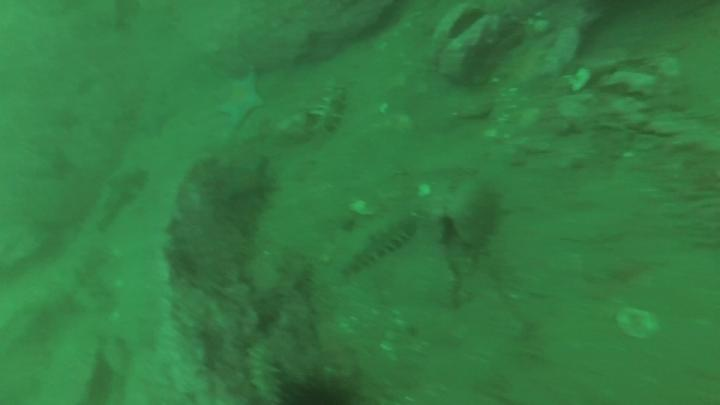holothurian: (338, 215, 414, 274), (98, 169, 147, 228), (247, 343, 282, 405), (311, 89, 344, 137)
scallop: (349, 200, 367, 215), (419, 183, 431, 200)
starfish: (218, 75, 264, 127)
